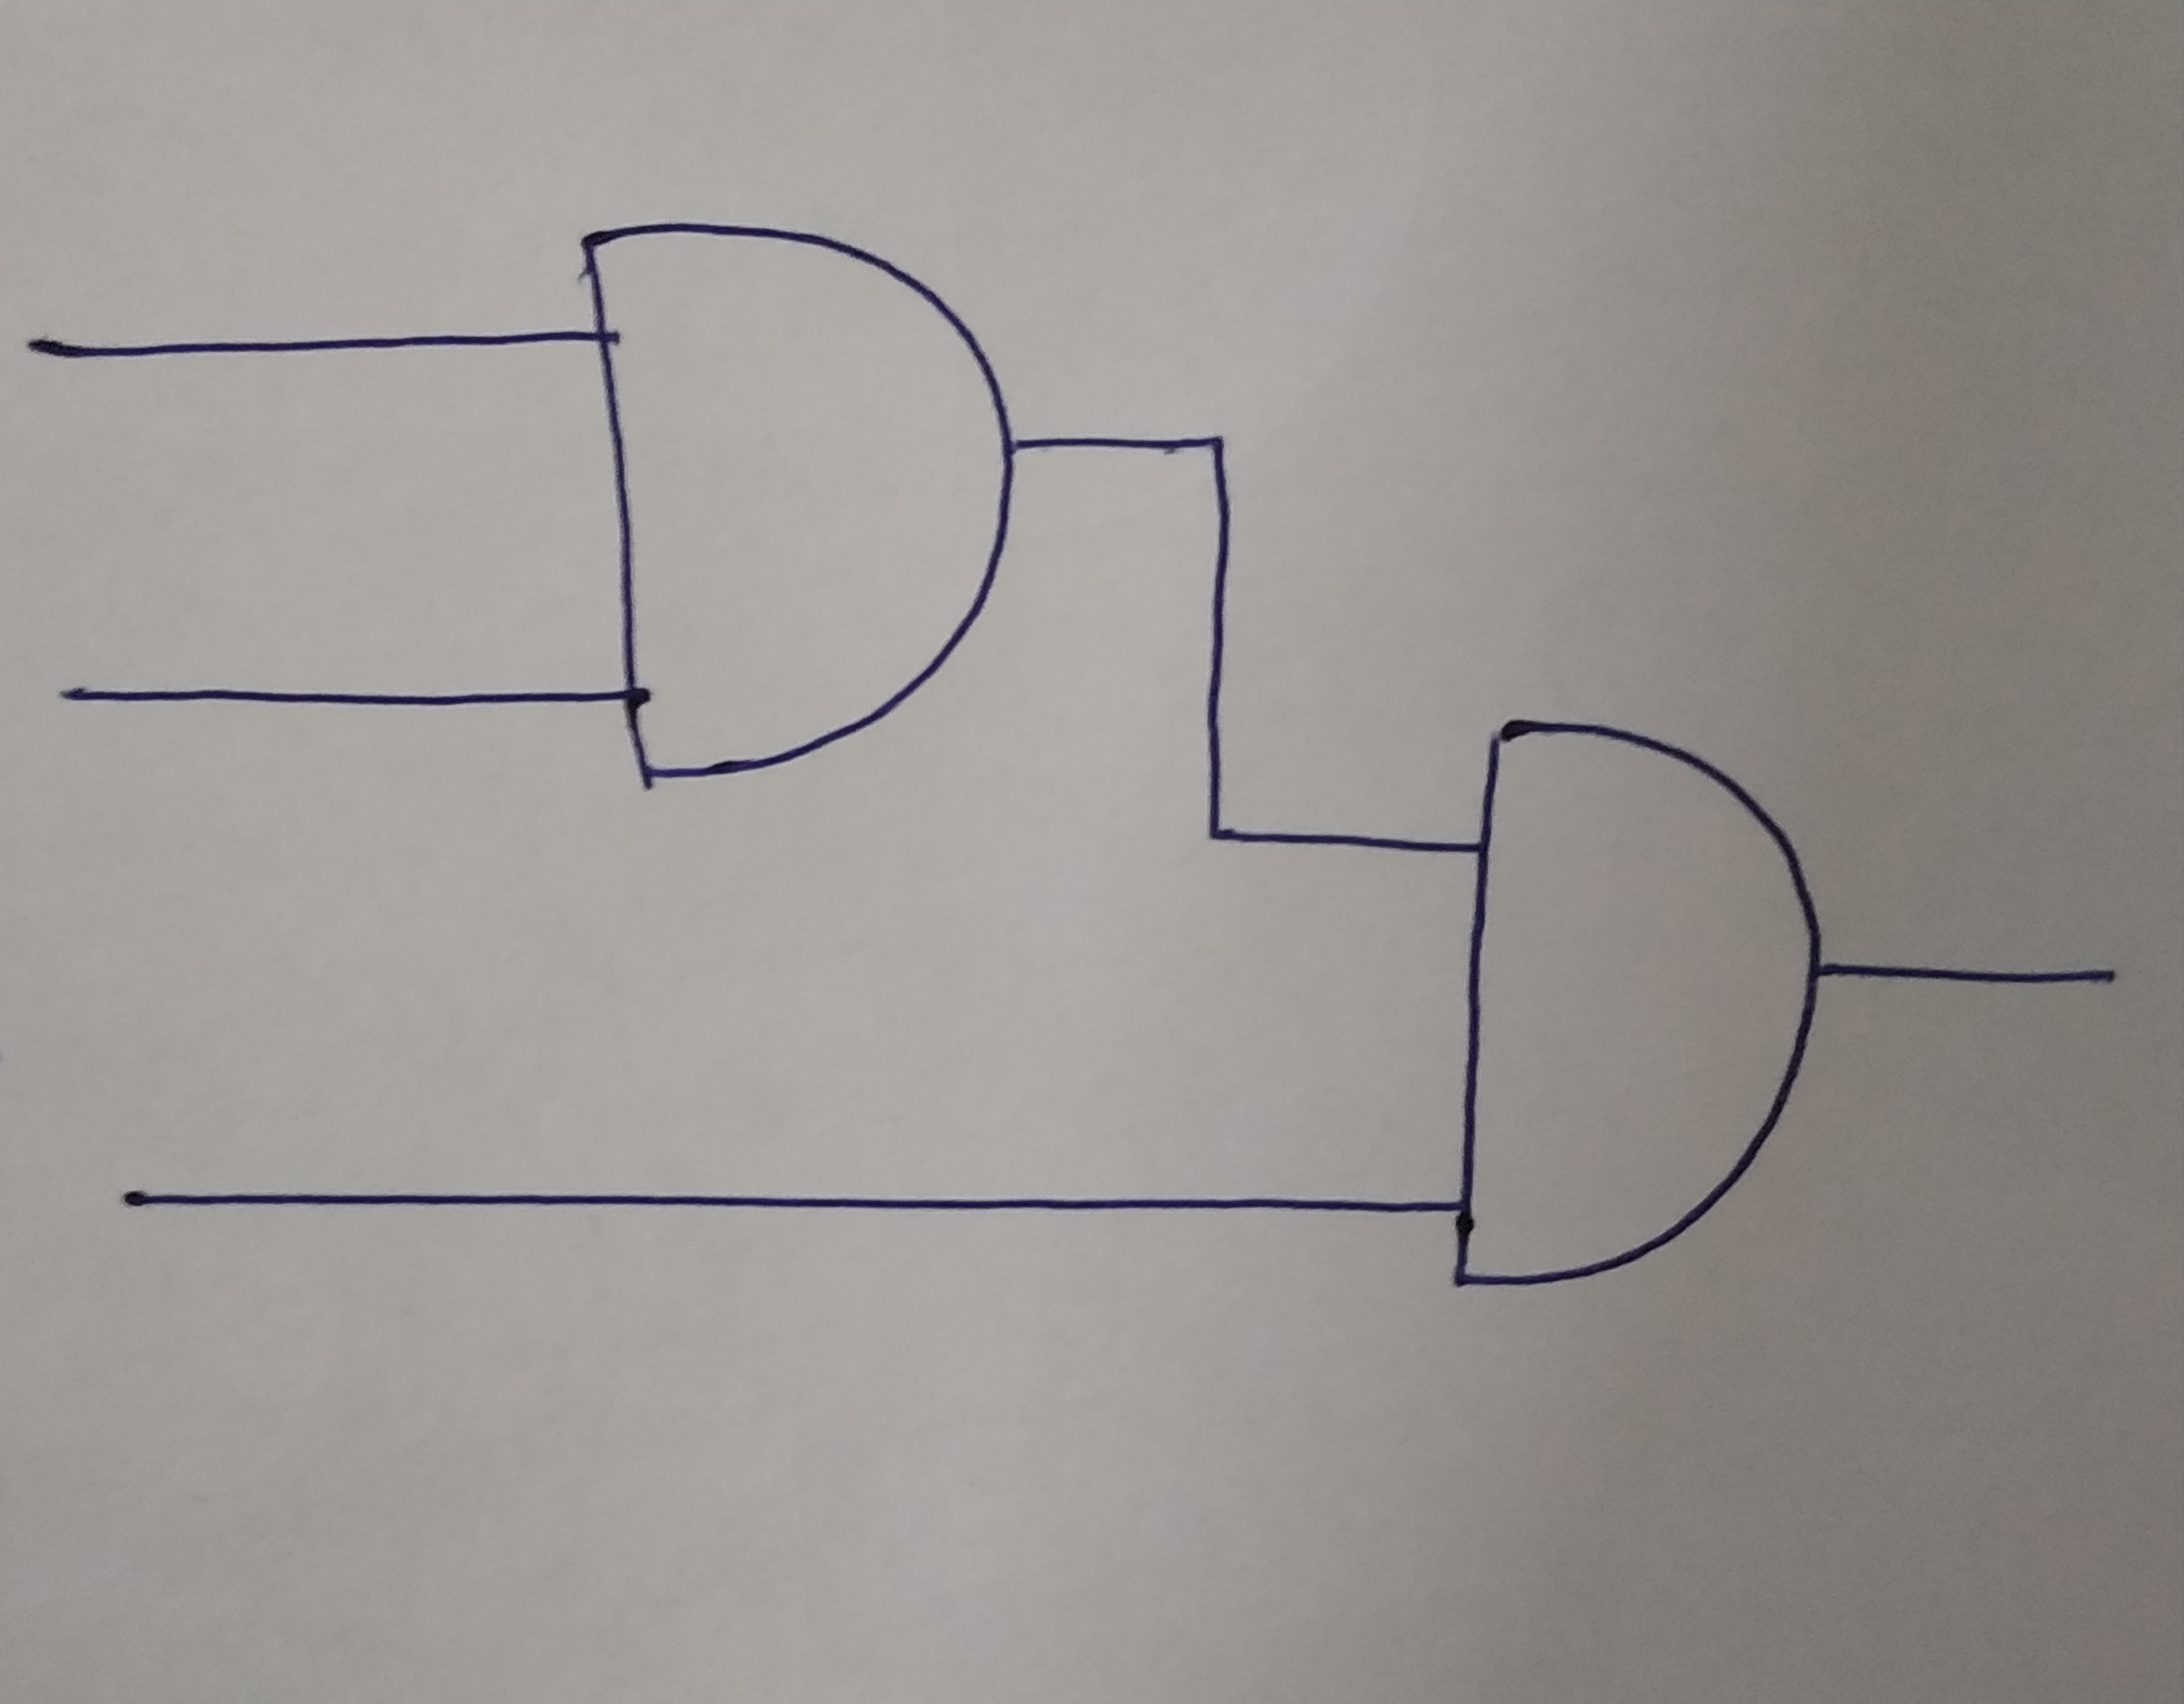and: (576, 227, 1003, 775), (1454, 723, 1814, 1284)
